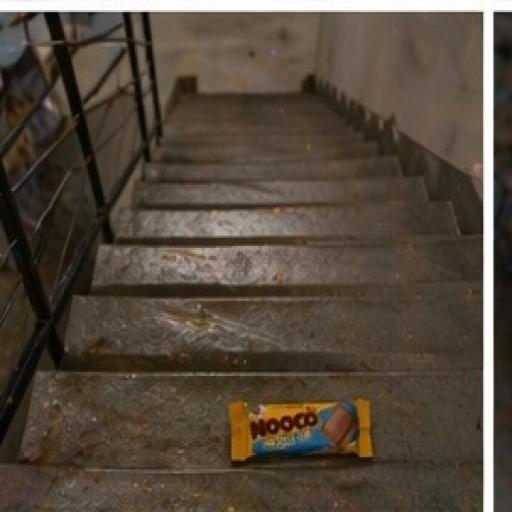nooco: (204, 360, 392, 484)
